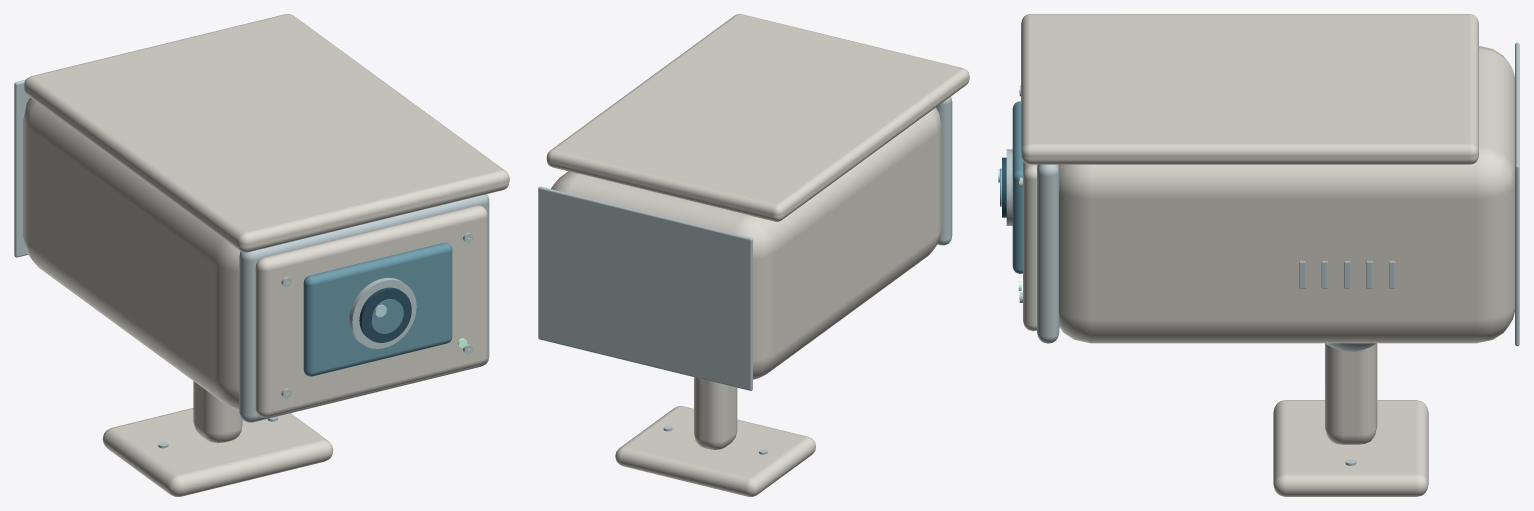
Rendered from cctv-concept.glb.
The picture shows the model from 3 angles, left to right: view 1: azimuth 30°, elevation 25°; view 2: azimuth 150°, elevation 25°; view 3: azimuth 270°, elevation 25°; orthographic projection. The views are drawn at different scales.
Size of the model in its own units: 1.73 by 2.24 by 2.79.
